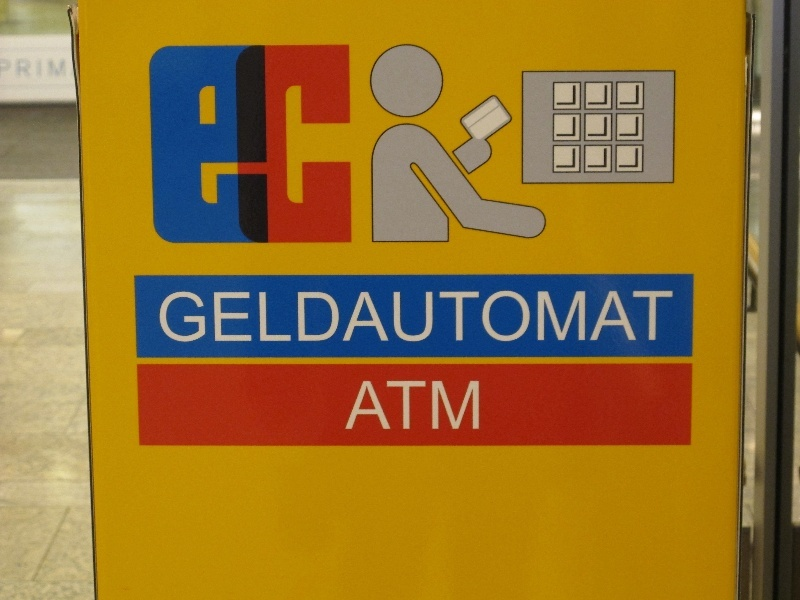text: (161, 44, 176, 246), (177, 44, 192, 246), (193, 44, 208, 246), (209, 44, 224, 246), (225, 44, 240, 246), (241, 44, 256, 246), (257, 44, 272, 246), (273, 44, 288, 246), (289, 44, 304, 246), (305, 44, 320, 246), (321, 44, 336, 246), (337, 44, 352, 246), (148, 44, 160, 246), (465, 380, 481, 433), (161, 290, 176, 345), (177, 290, 192, 345), (193, 290, 208, 345), (209, 290, 224, 345), (225, 290, 240, 345), (241, 290, 256, 345), (257, 290, 272, 345), (273, 290, 288, 345), (289, 290, 304, 345), (305, 290, 320, 345), (321, 290, 336, 345), (337, 290, 352, 345), (353, 290, 368, 345), (369, 290, 384, 345), (385, 290, 400, 345), (401, 290, 416, 345), (417, 290, 432, 345), (433, 290, 448, 345), (449, 290, 464, 345), (465, 290, 480, 345), (481, 290, 496, 345), (497, 290, 512, 345), (513, 290, 528, 345), (529, 290, 544, 345), (545, 290, 560, 345), (561, 290, 576, 345), (577, 290, 592, 345), (593, 290, 608, 345), (609, 290, 624, 345), (625, 290, 640, 345), (641, 290, 656, 345), (657, 290, 672, 345), (369, 380, 384, 433), (385, 380, 400, 433), (401, 380, 416, 433), (417, 380, 432, 433), (433, 380, 448, 433), (449, 380, 464, 433), (1, 58, 16, 80), (17, 58, 32, 80), (33, 58, 48, 80), (49, 58, 64, 80), (363, 380, 368, 433), (673, 290, 676, 345), (158, 290, 160, 345), (65, 58, 69, 80)
